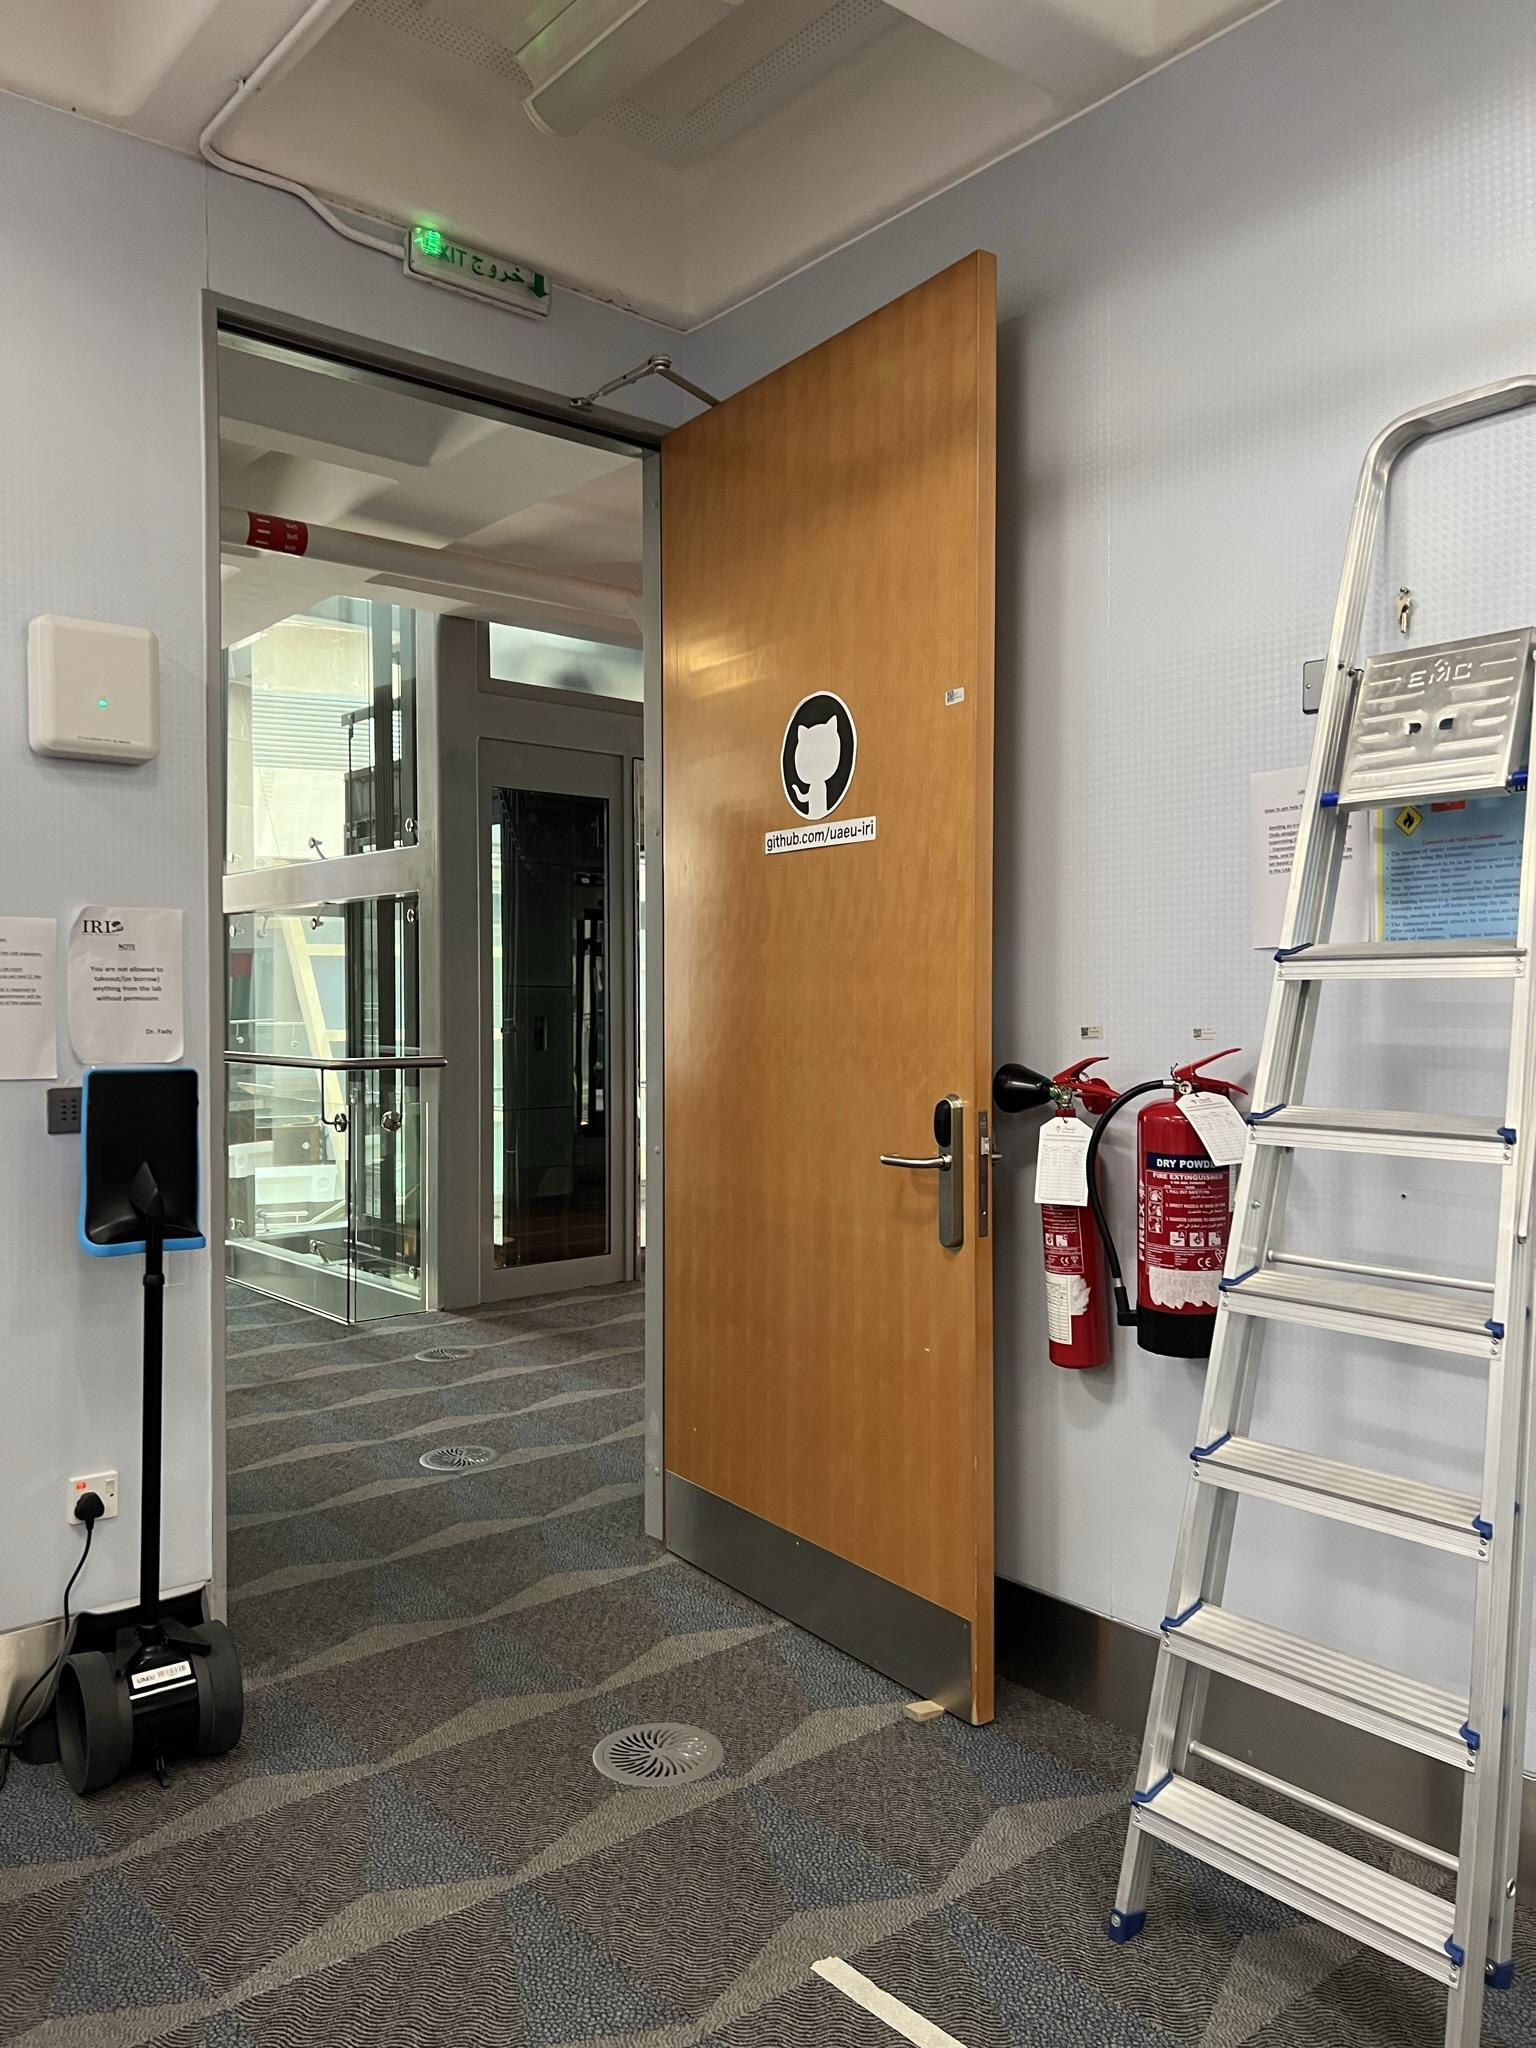door: (662, 381, 992, 1698)
handle: (887, 1097, 973, 1255)
